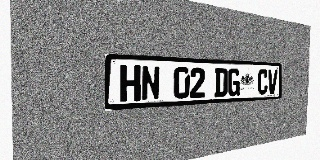0: (173, 67, 190, 99)
2: (190, 67, 205, 98)
C: (257, 69, 268, 95)
D: (214, 68, 228, 97)
G: (228, 68, 240, 96)
H: (120, 65, 141, 102)
N: (141, 65, 160, 101)
V: (267, 69, 278, 94)
